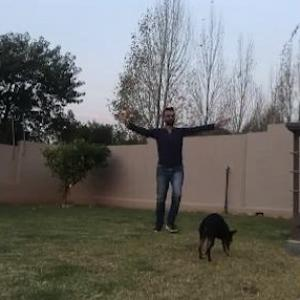takeoff: (121, 88, 241, 241)
